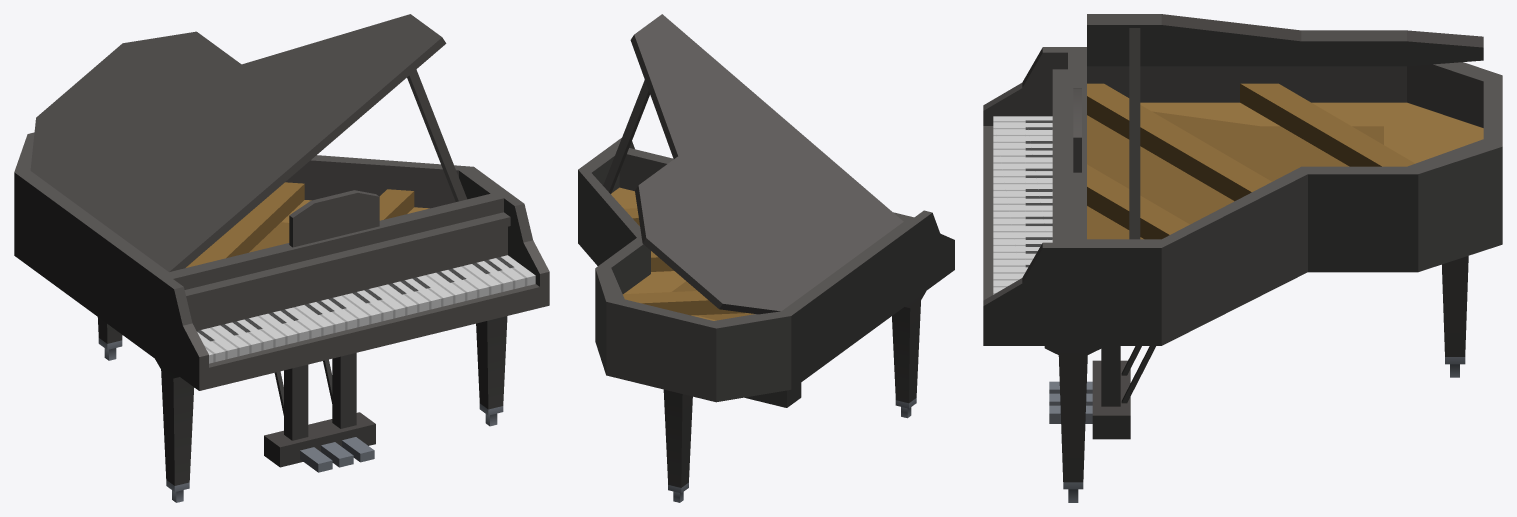
Rendered from AI_Prop_Piano.fbx.
3 views of the same model, side by side, from view 1: azimuth 30°, elevation 25°; view 2: azimuth 150°, elevation 25°; view 3: azimuth 270°, elevation 25° (orthographic). The views are drawn at different scales.
Visible parts, largest first — view 1: AI_Prop_Piano; view 2: AI_Prop_Piano; view 3: AI_Prop_Piano.
Boxes of the visible parts, bbox=[...] form: AI_Prop_Piano: bbox=[14, 14, 549, 502]; AI_Prop_Piano: bbox=[578, 14, 954, 502]; AI_Prop_Piano: bbox=[983, 14, 1502, 502].
Bounding box in the file's own units: 3.48 × 3.73 × 3.8.
